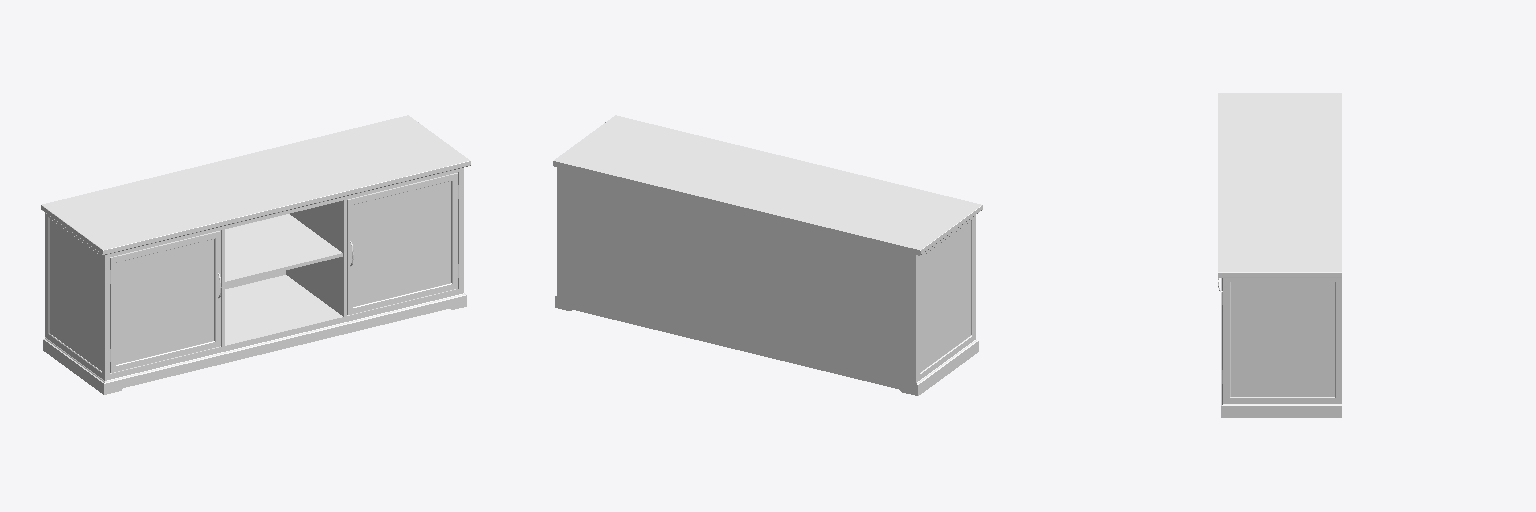
Rendered from dresser.obj.
The picture shows the model from 3 angles: view 1: azimuth 30°, elevation 25°; view 2: azimuth 150°, elevation 25°; view 3: azimuth 270°, elevation 25°; orthographic projection.
Parts seen in each view (by area): view 1: dresser; view 2: dresser; view 3: dresser.
Boxes of the visible parts, <box> form: dresser: <box>41,115,470,394</box>; dresser: <box>553,115,982,395</box>; dresser: <box>1218,93,1341,417</box>.
Size of the model in its own units: 3.22 by 1.23 by 0.9473.